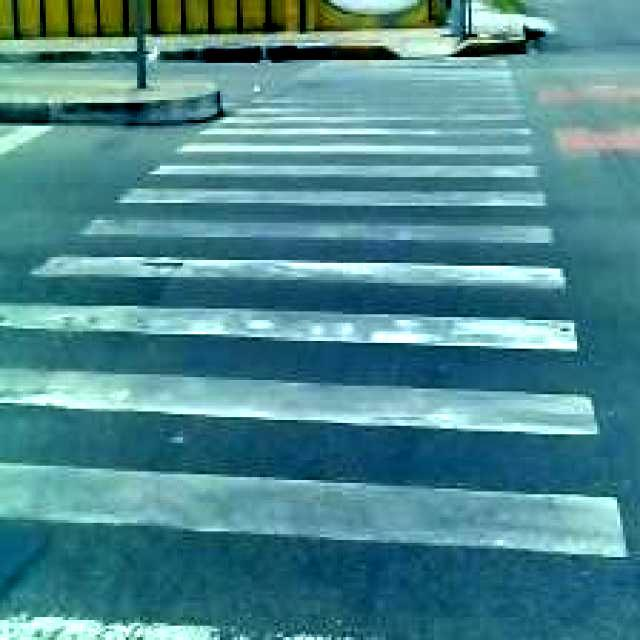crosswalk: (0, 70, 624, 577)
